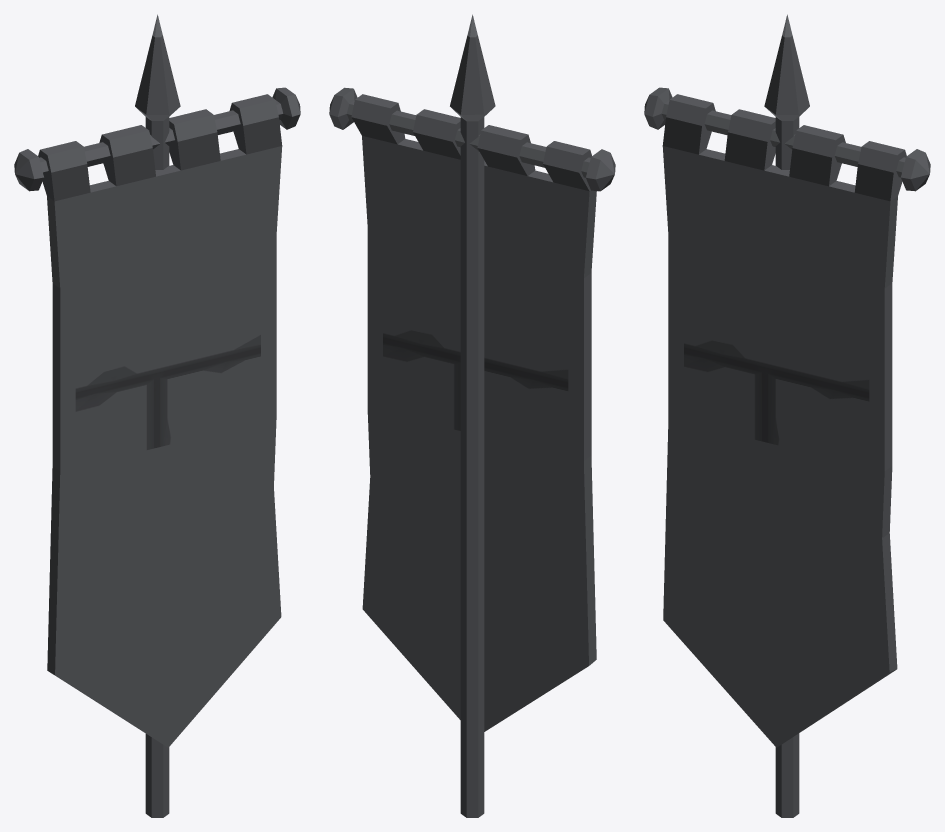
The model's file is castle_banner.gltf.
3 views of the same model, side by side, from view 1: azimuth 30°, elevation 25°; view 2: azimuth 150°, elevation 25°; view 3: azimuth 330°, elevation 25° (orthographic).
Parts seen in each view (by area): view 1: castle_banner; view 2: castle_banner; view 3: castle_banner.
Part boxes in pixels (x1,y1,x2,y2): castle_banner: (14,14,300,817); castle_banner: (329,14,615,817); castle_banner: (644,14,930,817).
Bounding box in the file's own units: 0.751 × 2.01 × 0.1068.
Materials: 1 (1 with a texture image).
